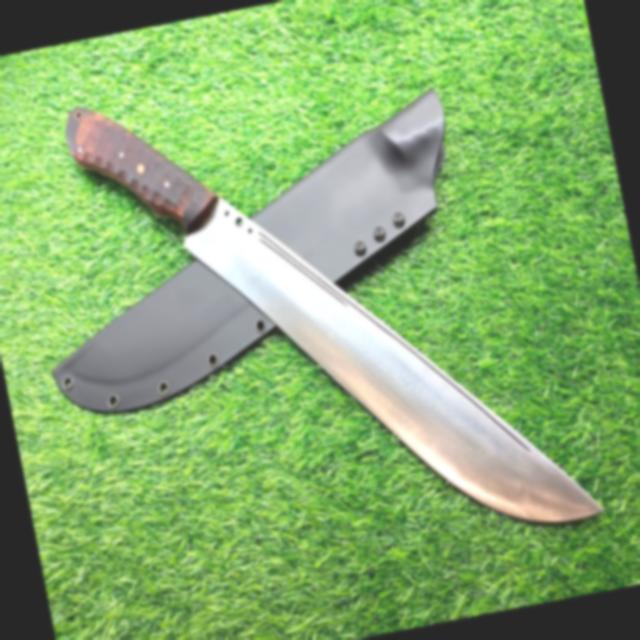eto: (52, 91, 609, 532)
